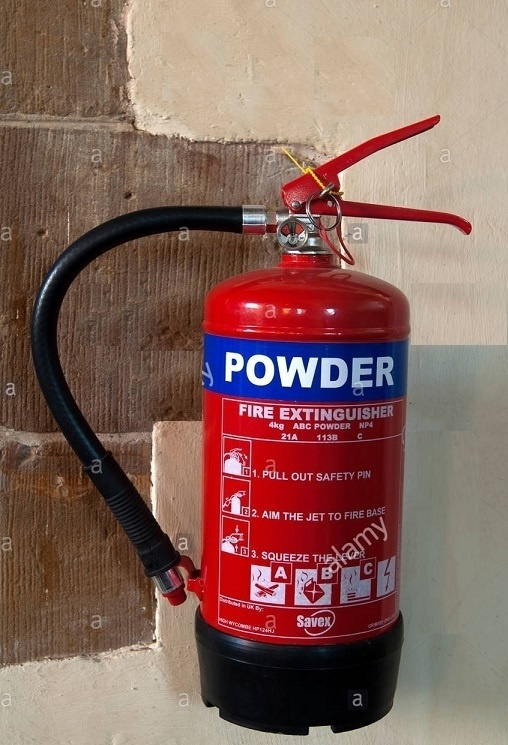fire_extinguisher: (30, 114, 473, 737)
